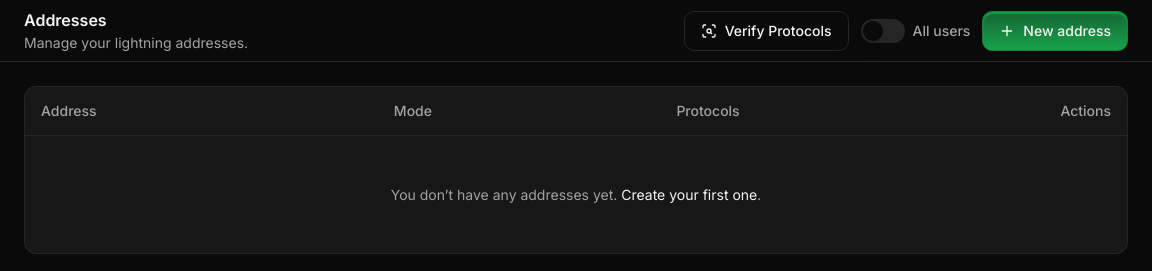
AdminAddressesPage filler rows › spans the empty-state cell across all 5 columns in admin view
This screenshot has width=1152, height=271.
Click the switch named "All users" at x=882, y=30, box [860, 18, 904, 42]
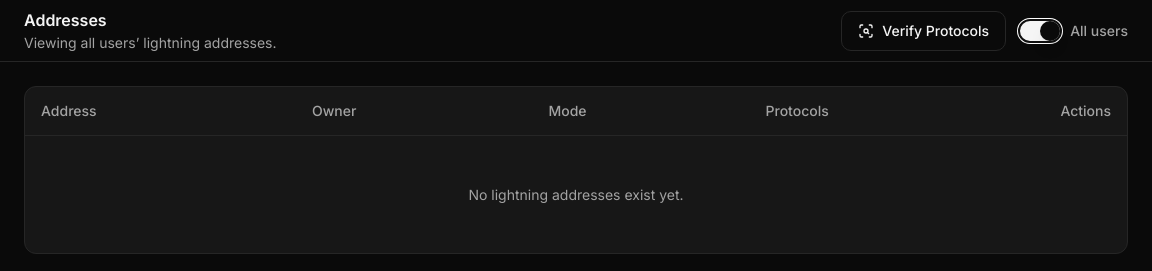
Result: the text "No lightning addresses exist yet." is shown at [25, 135, 1127, 252]
